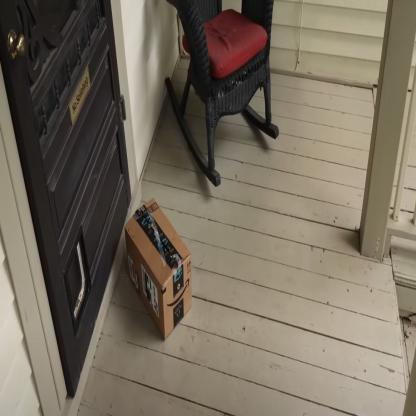package: (123, 196, 194, 343)
